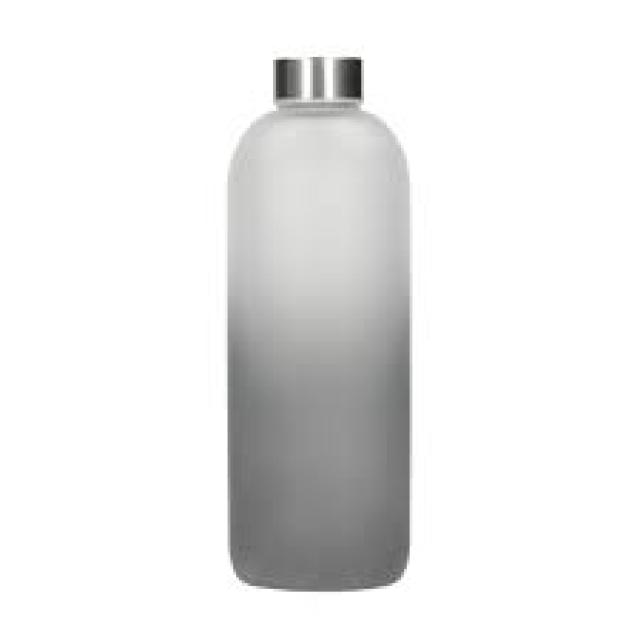glass: (222, 100, 407, 589)
metal: (268, 54, 362, 105)
